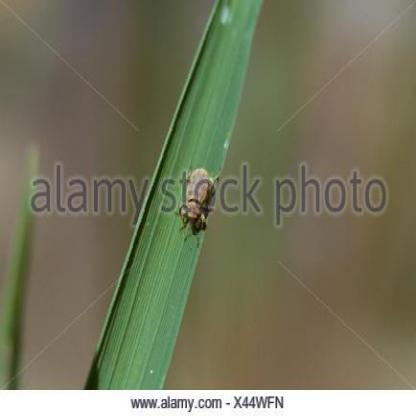rice-bug: (179, 164, 216, 236)
